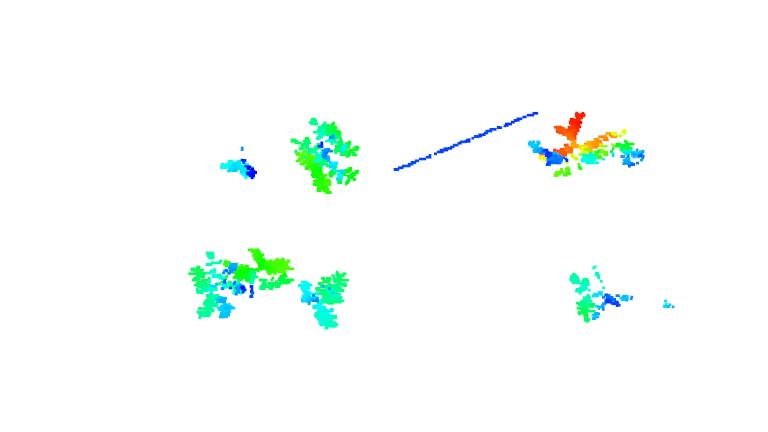chickpea: (527, 112, 644, 180), (294, 115, 363, 195), (188, 251, 246, 322), (572, 265, 634, 325), (297, 269, 354, 331), (229, 247, 296, 289), (214, 154, 259, 180)
